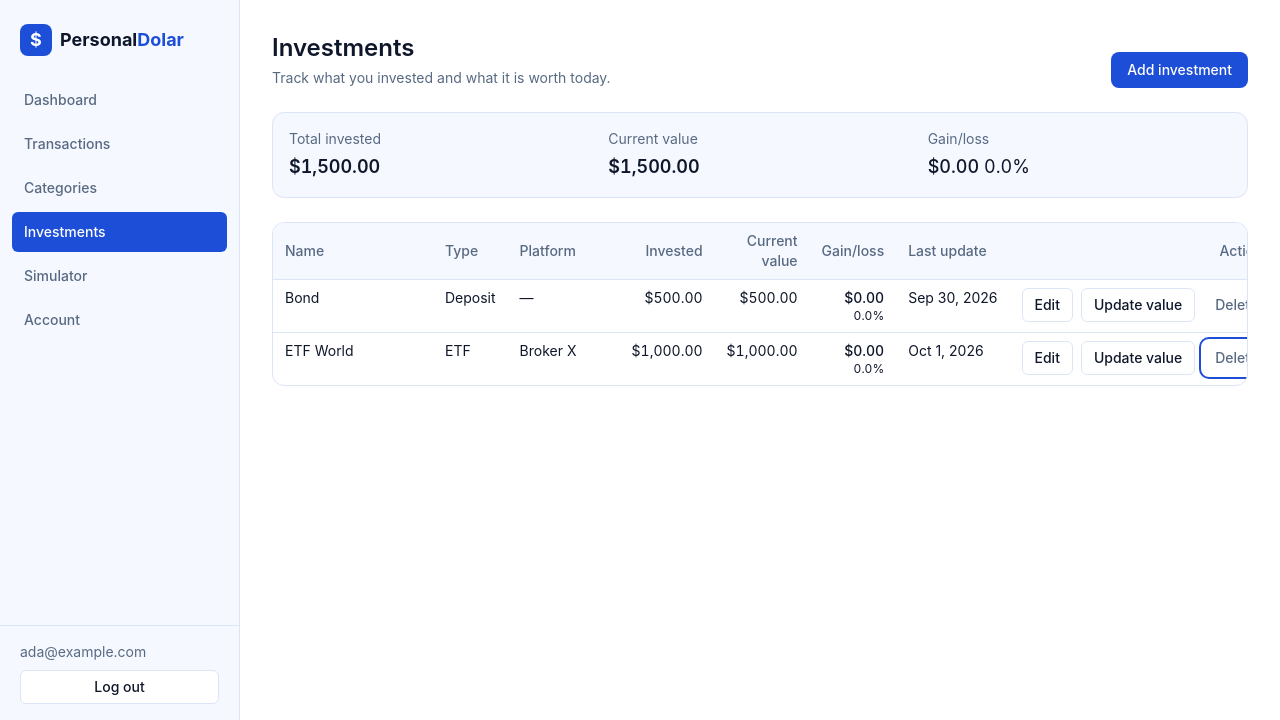
Test: Delete button and dialog › closes on Cancel without a request and returns focus to the row
Check: the table named "Investments" is shown, box [273,223,1248,385]
Click the button with aria-label "Delete ETF World".
click(1237, 358)  # box [1203,341,1270,375]
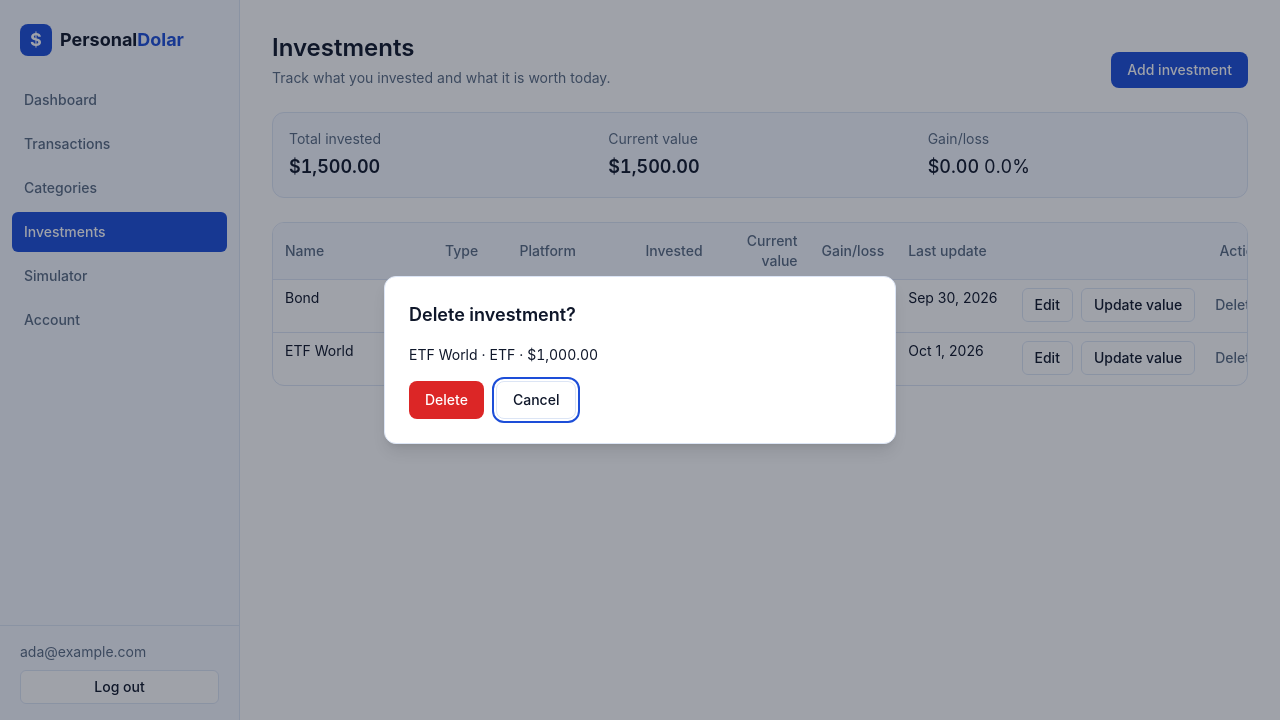
Click the button "Cancel".
click(536, 400)  # box [496,381,576,419]
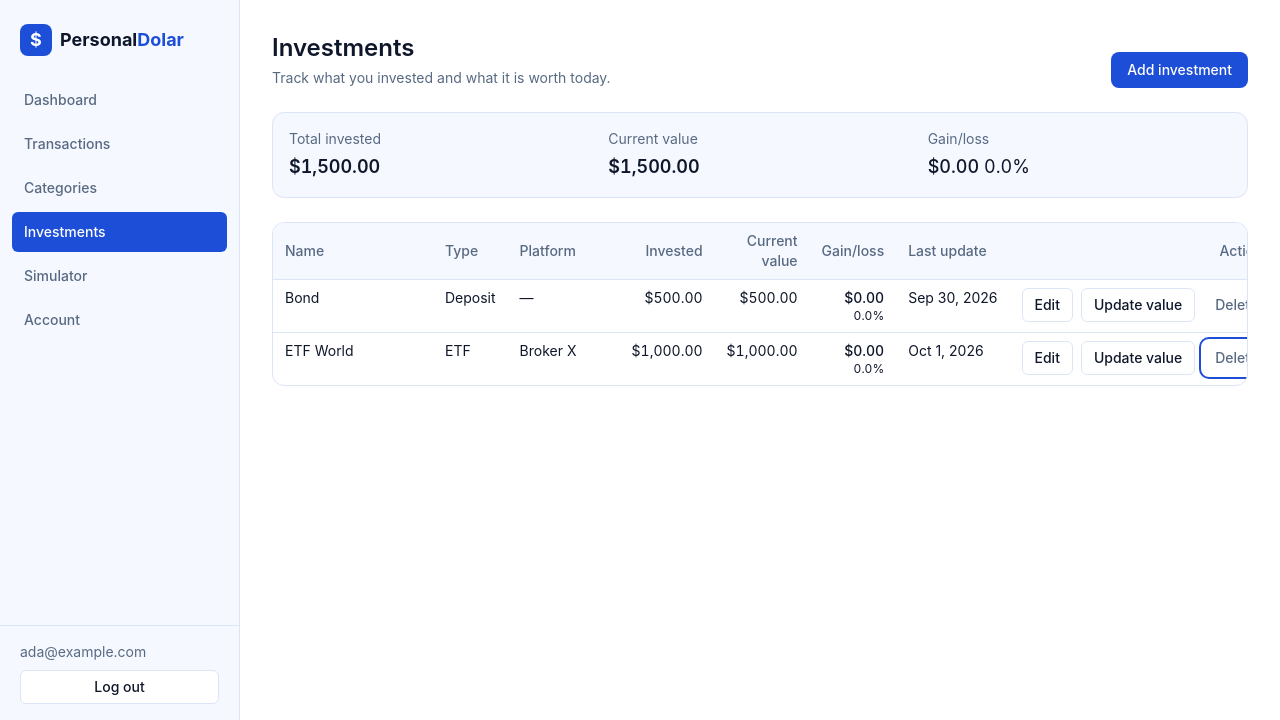
Check: the dialog is gone
